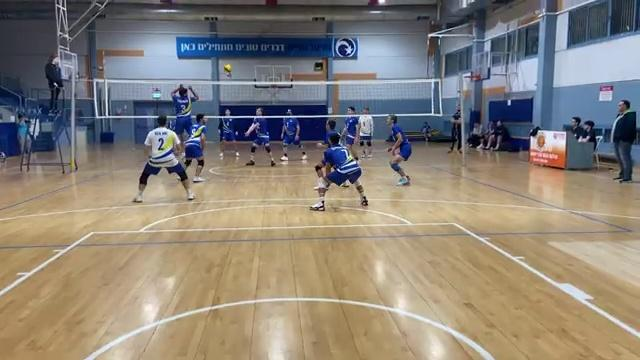ball: (222, 63, 234, 74)
